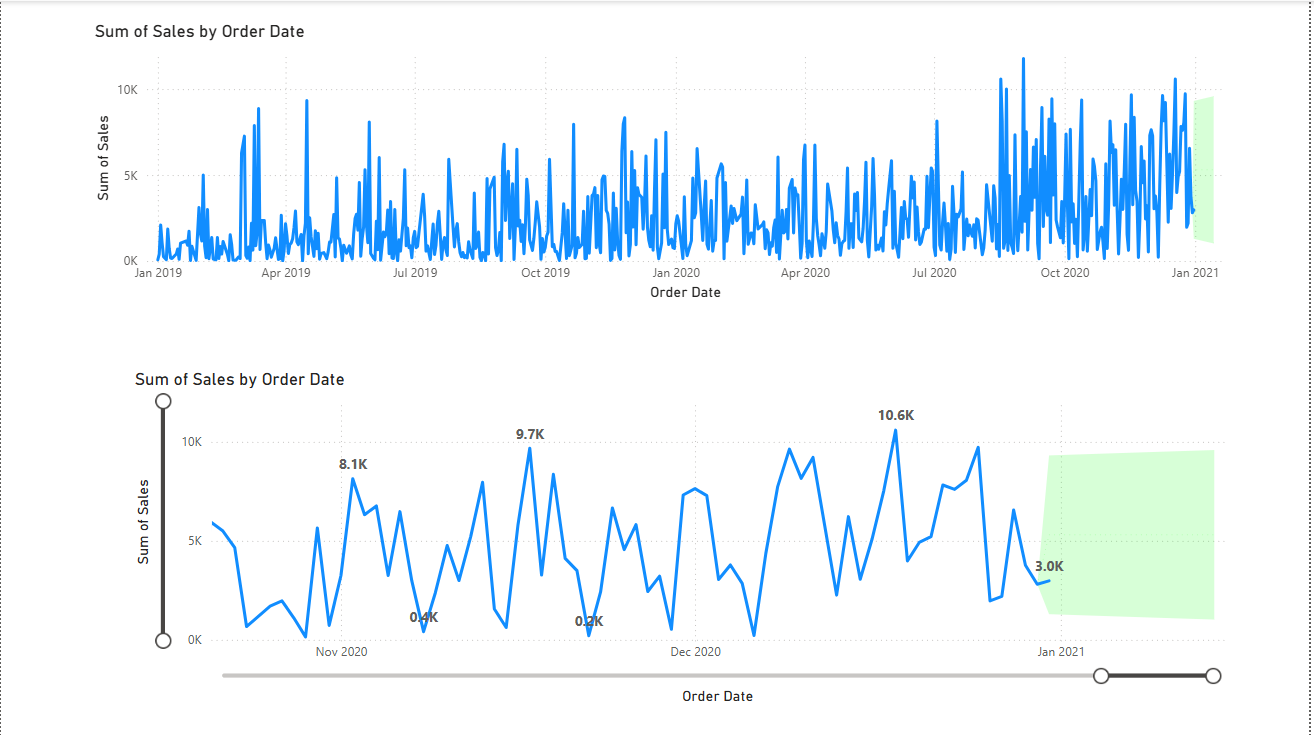

What the dashboard file says about the page in this screenshot:
{"tool":"powerbi","page":{"name":"Page 2","canvas":[1280,720],"ordinal":1},"visuals":[{"type":"lineChart","fields":{"Y":["Sum(SuperStore_Sales_Dataset.Sales)"],"Category":["SuperStore_Sales_Dataset.Order Date"]},"box":[86.8,19.6,1128.7,278.8],"z":0},{"type":"lineChart","fields":{"Y":["Sum(SuperStore_Sales_Dataset.Sales)"],"Category":["SuperStore_Sales_Dataset.Order Date"]},"box":[126,359.5,1089.5,332.6],"z":1000}]}

Visuals, with their boxes in screenshot pixels (x1, y1, x2, y2), scaled from the page's 1280x720 canvas onto the 1314x735 screenshot:
lineChart - Sum(SuperStore_Sales_Dataset.Sales) x SuperStore_Sales_Dataset.Order Date: (89,20,1248,305)
lineChart - Sum(SuperStore_Sales_Dataset.Sales) x SuperStore_Sales_Dataset.Order Date: (129,367,1248,707)
